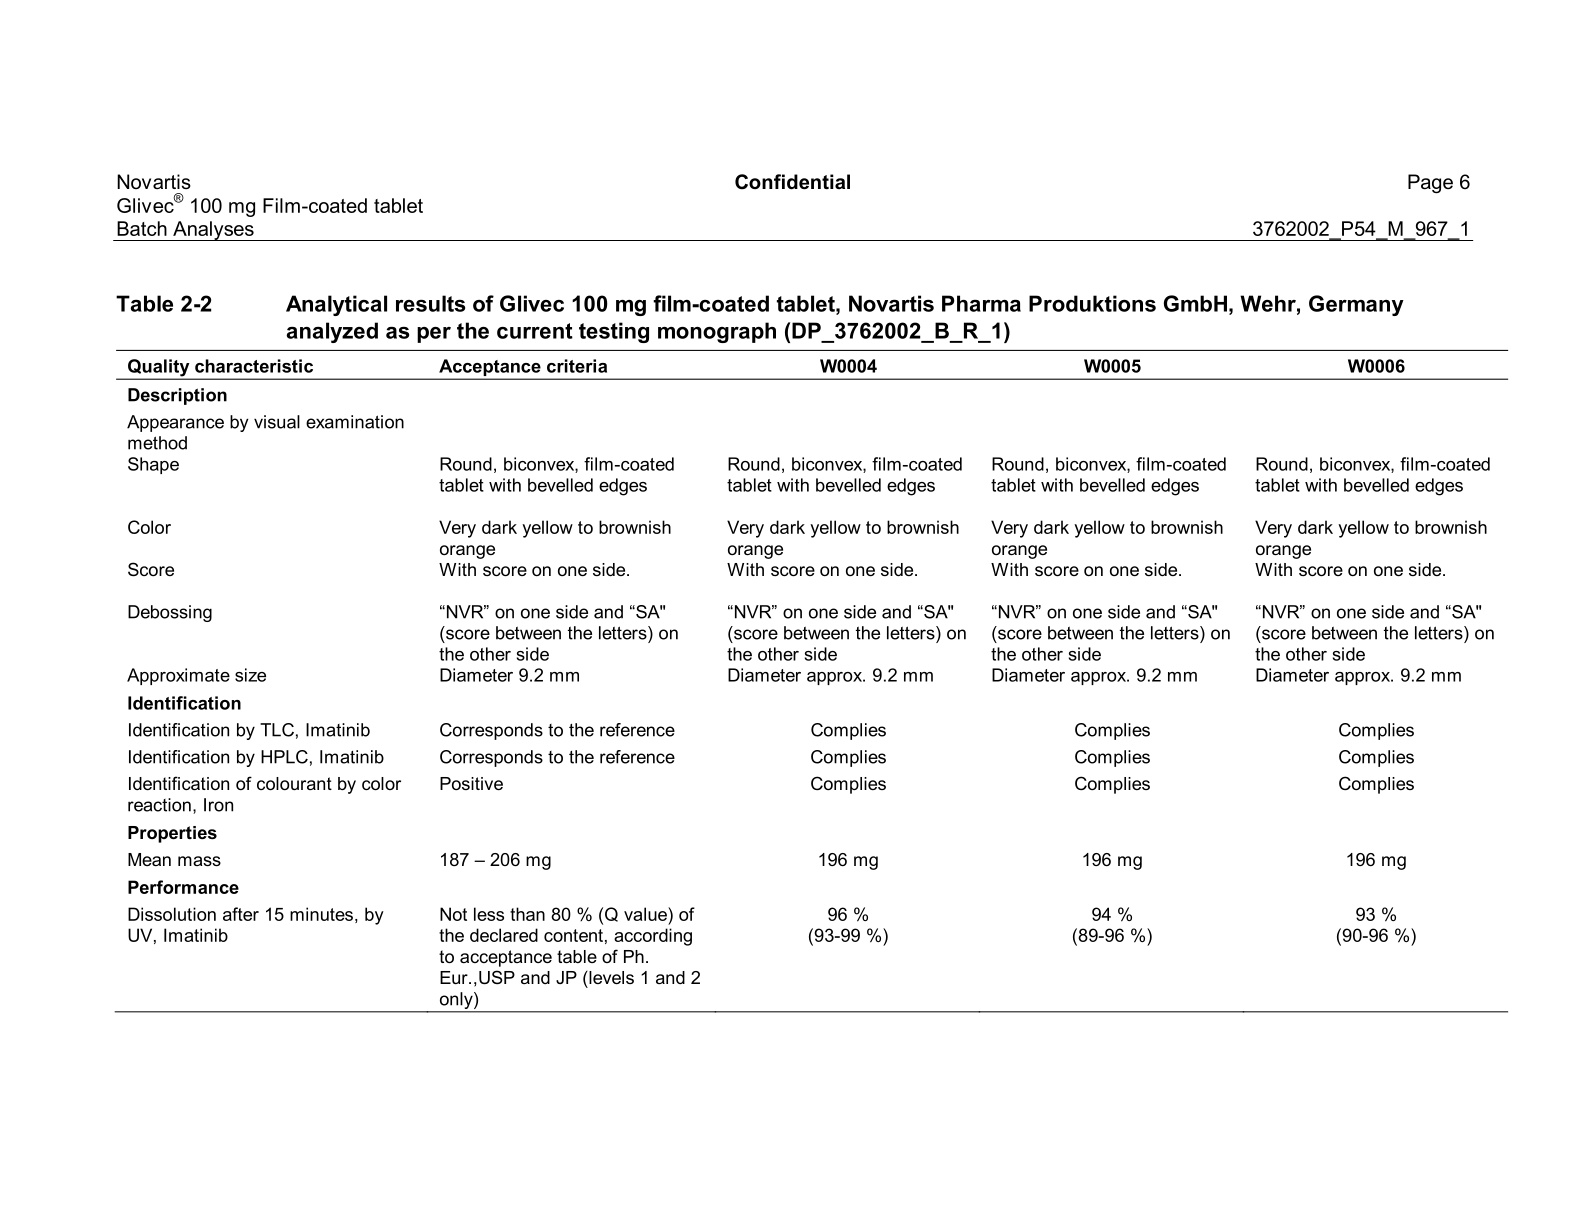partial_lined: (114, 347, 1512, 1014)
